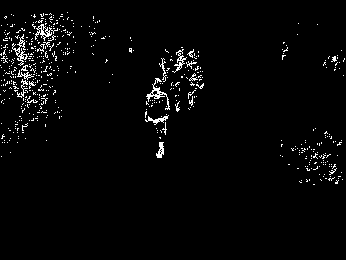person: (146, 76, 171, 161)
